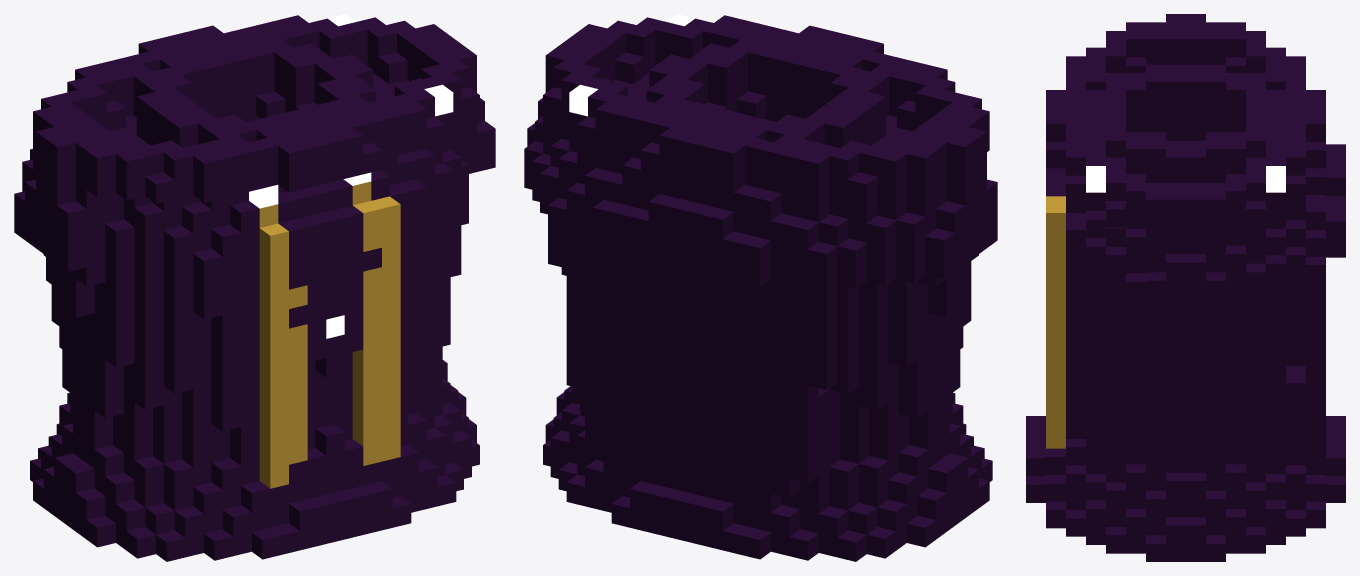
Rendered from mystic_epic_chest_lod1.glb.
The picture shows the model from 3 angles, left to right: view 1: azimuth 30°, elevation 25°; view 2: azimuth 150°, elevation 25°; view 3: azimuth 270°, elevation 25°; orthographic projection. The views are drawn at different scales.
Parts seen in each view (by area): view 1: mystic_epic_chest_lod1; view 2: mystic_epic_chest_lod1; view 3: mystic_epic_chest_lod1.
Boxes of the visible parts, box(x1,y1,x2,y2) form: mystic_epic_chest_lod1: box(14, 14, 495, 561); mystic_epic_chest_lod1: box(524, 14, 997, 561); mystic_epic_chest_lod1: box(1026, 14, 1345, 561).
Size of the model in its own units: 0.552 by 0.48 by 0.384.
